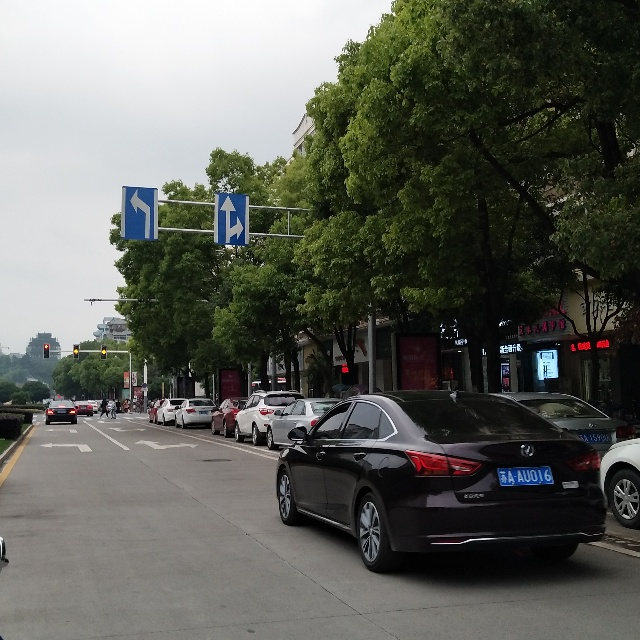left: (123, 185, 158, 243)
